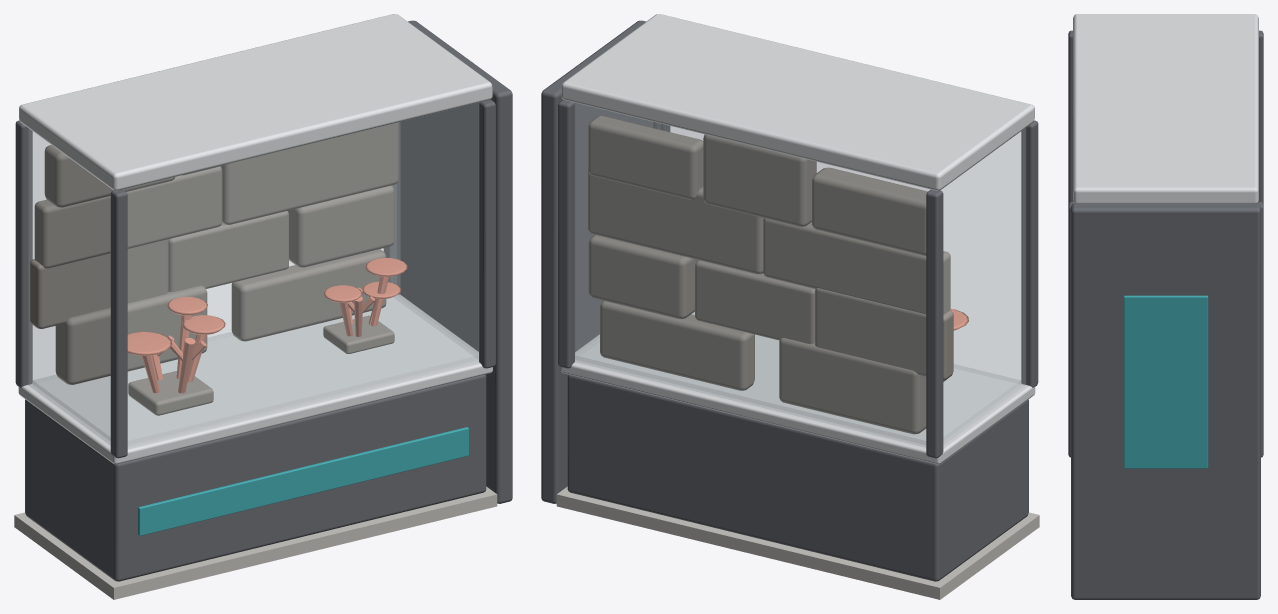
The model's file is public-aquarium-and-marine-centre-wall-tank-module-end-b2a96a42__34146.glb.
The picture shows the model from 3 angles, left to right: view 1: azimuth 30°, elevation 25°; view 2: azimuth 150°, elevation 25°; view 3: azimuth 270°, elevation 25°; orthographic projection. The views are drawn at different scales.
Visible parts, largest first — view 1: wall-tank-module-end; view 2: wall-tank-module-end; view 3: wall-tank-module-end.
Part boxes in pixels (left/top/right/bottom): wall-tank-module-end: left=14, top=14, right=512, bottom=599; wall-tank-module-end: left=541, top=14, right=1039, bottom=599; wall-tank-module-end: left=1068, top=14, right=1263, bottom=599.
Size of the model in its own units: 2.11 by 2.11 by 0.9249.
